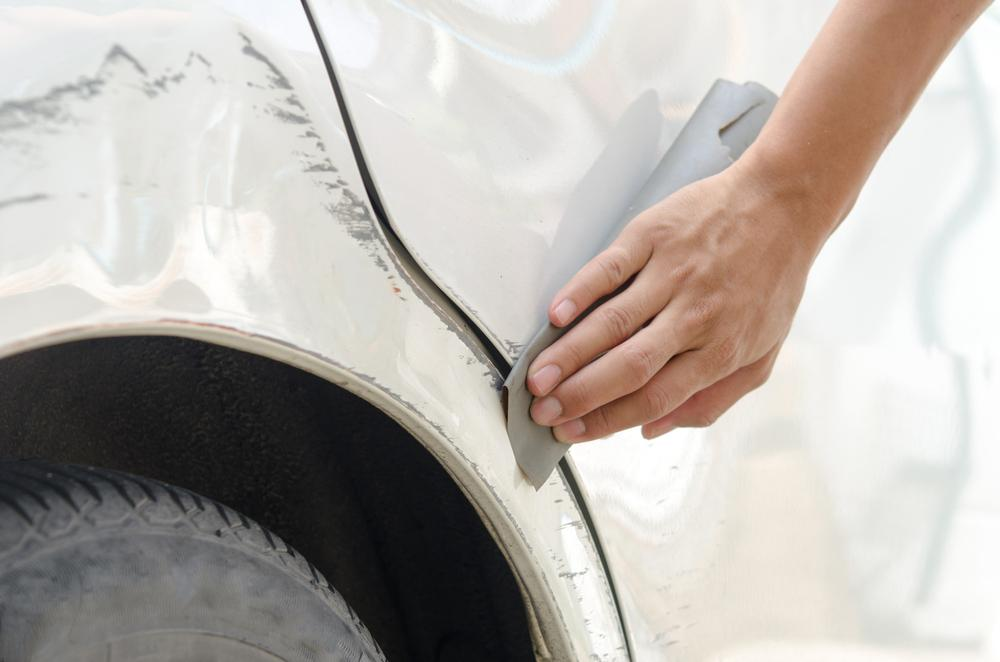dent: (0, 84, 296, 328)
scratch: (0, 28, 501, 389), (254, 331, 632, 662)
